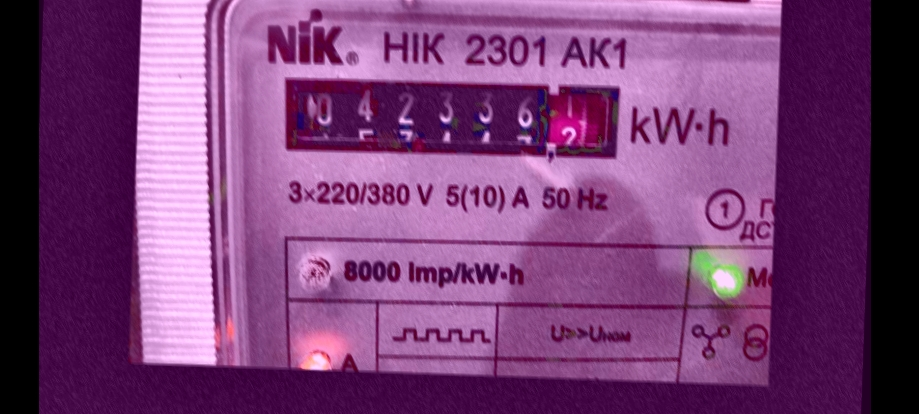0: (312, 90, 333, 125)
1: (560, 89, 574, 119)
2: (393, 88, 414, 125), (556, 123, 576, 145)
3: (434, 86, 454, 125), (472, 87, 493, 124)
4: (353, 84, 373, 122)
6: (511, 92, 534, 127)
screen: (273, 63, 628, 169)
